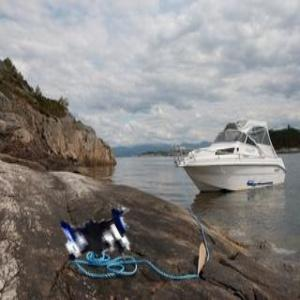drone: (23, 157, 148, 282)
